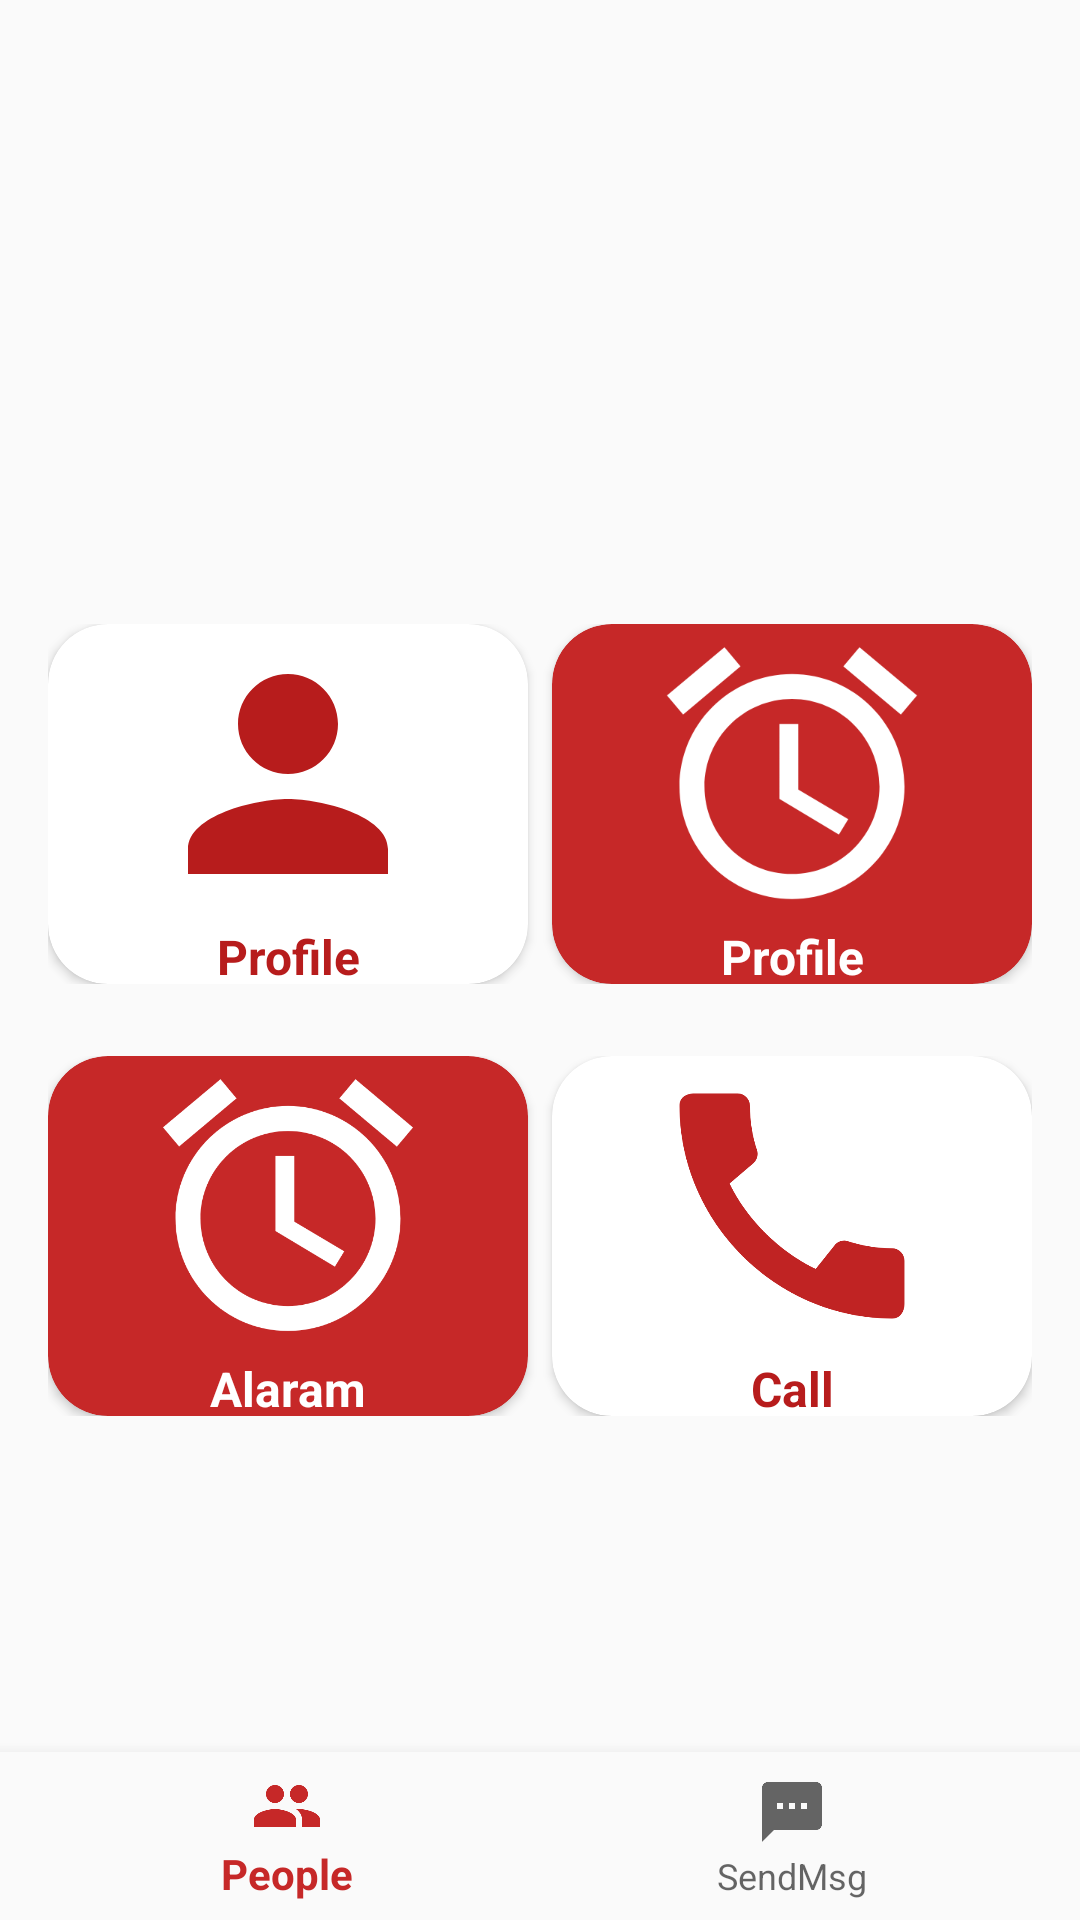

Where to tap for icons on this 1080px×1920px app screen, as point (x, y):
person: point (288, 774)
